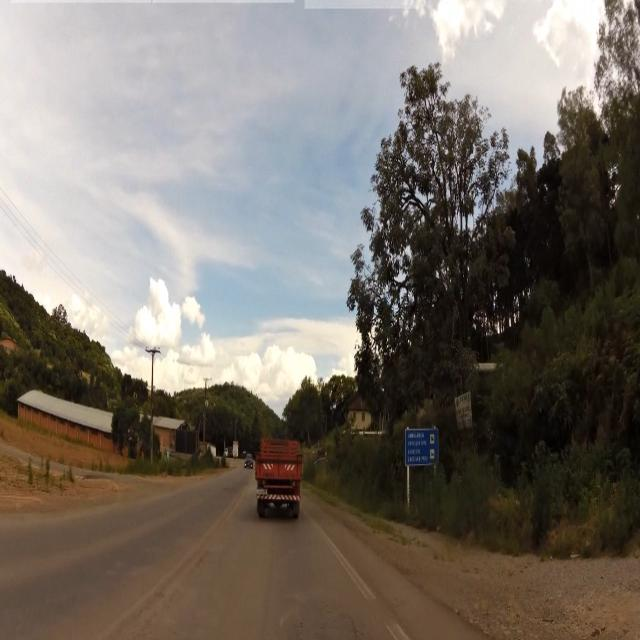LOC-6: (406, 426, 442, 460)
